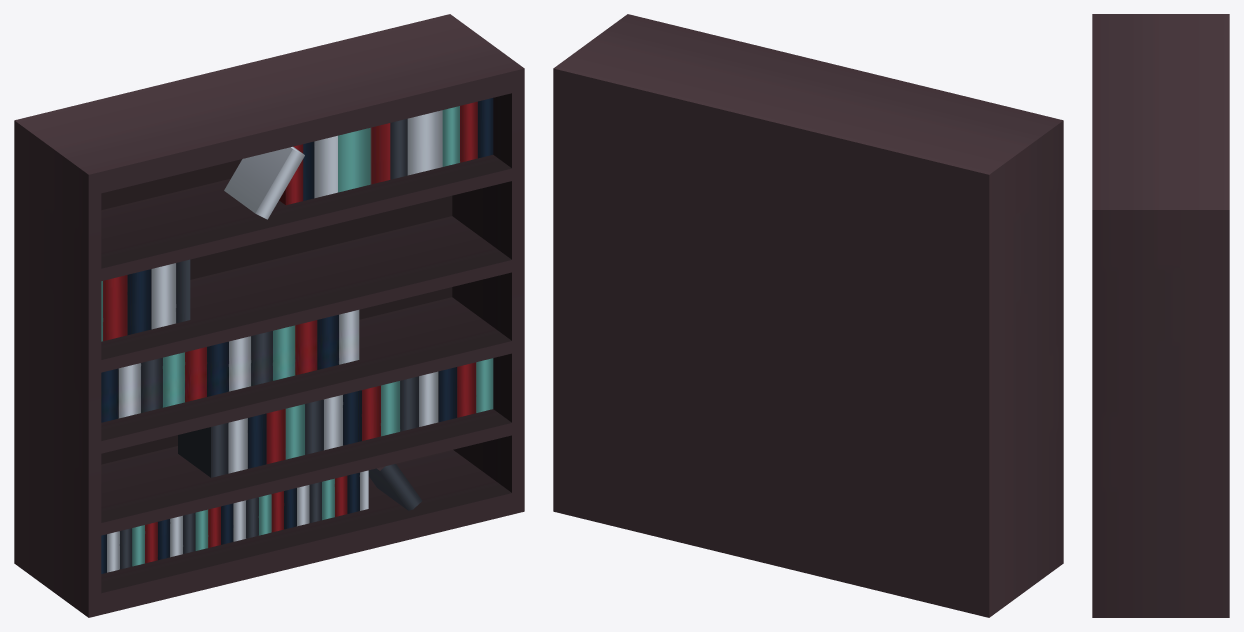
File: Bookshelf.fbx
3 views of the same model, side by side, from view 1: azimuth 30°, elevation 25°; view 2: azimuth 150°, elevation 25°; view 3: azimuth 270°, elevation 25° (orthographic). The views are drawn at different scales.
Parts seen in each view (by area): view 1: node_id4, node_id8, node_id18, node_id10, node_id6, node_id16, node_id14, node_id12; view 2: node_id4; view 3: node_id4.
Boxes of the visible parts, bbox=[...] form: node_id4: bbox=[14, 14, 524, 617]; node_id8: bbox=[178, 358, 493, 477]; node_id18: bbox=[101, 310, 359, 422]; node_id10: bbox=[279, 98, 493, 205]; node_id6: bbox=[101, 470, 368, 573]; node_id16: bbox=[101, 259, 190, 341]; node_id14: bbox=[224, 146, 304, 219]; node_id12: bbox=[368, 464, 422, 510]; node_id4: bbox=[553, 14, 1063, 617]; node_id4: bbox=[1092, 14, 1229, 617].
Size of the model in its own units: 0.512 by 0.4973 by 0.1515.
1 material, 1 textured.
